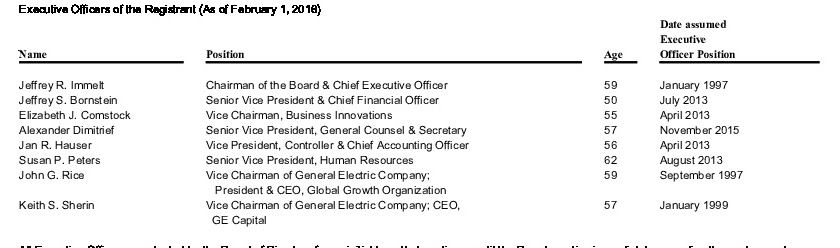table: (0, 0, 840, 248)
